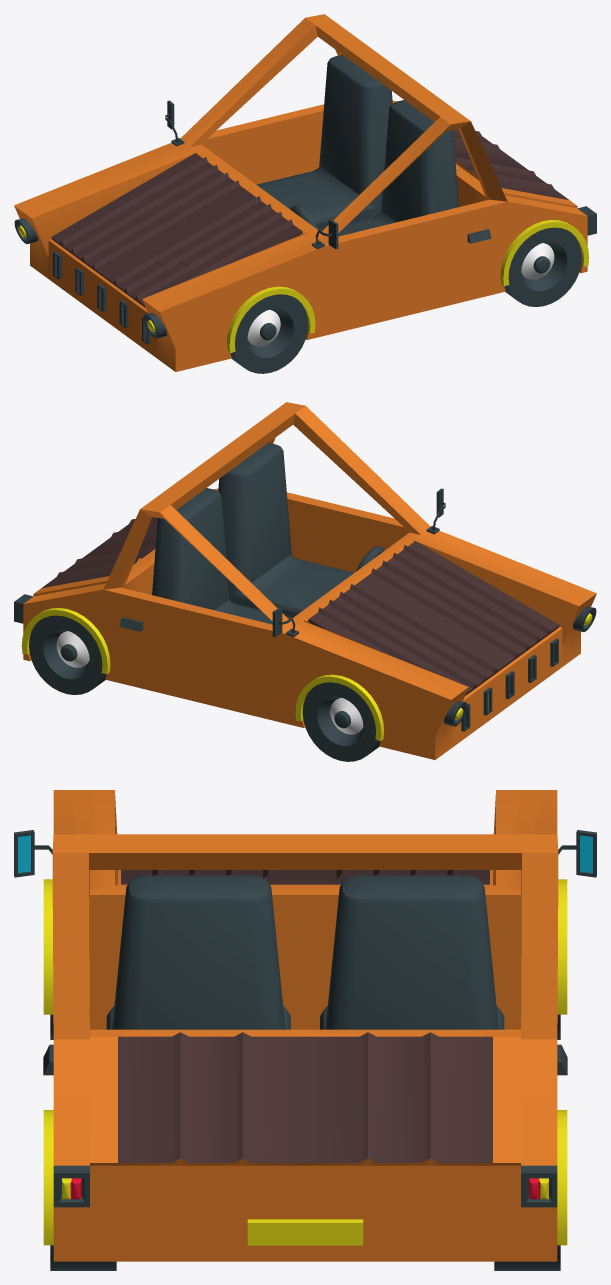
Rendered from Car8.fbx.
The picture shows the model from 3 angles, top to bottom: view 1: azimuth 30°, elevation 25°; view 2: azimuth 150°, elevation 25°; view 3: azimuth 270°, elevation 25°; orthographic projection. The views are drawn at different scales.
Parts seen in each view (by area): view 1: Cube; view 2: Cube; view 3: Cube.
Boxes of the visible parts, x1=… form: Cube: x1=14, y1=14, x2=596, y2=373; Cube: x1=14, y1=402, x2=596, y2=761; Cube: x1=14, y1=790, x2=596, y2=1270.
Size of the model in its own units: 350 by 154 by 231.
